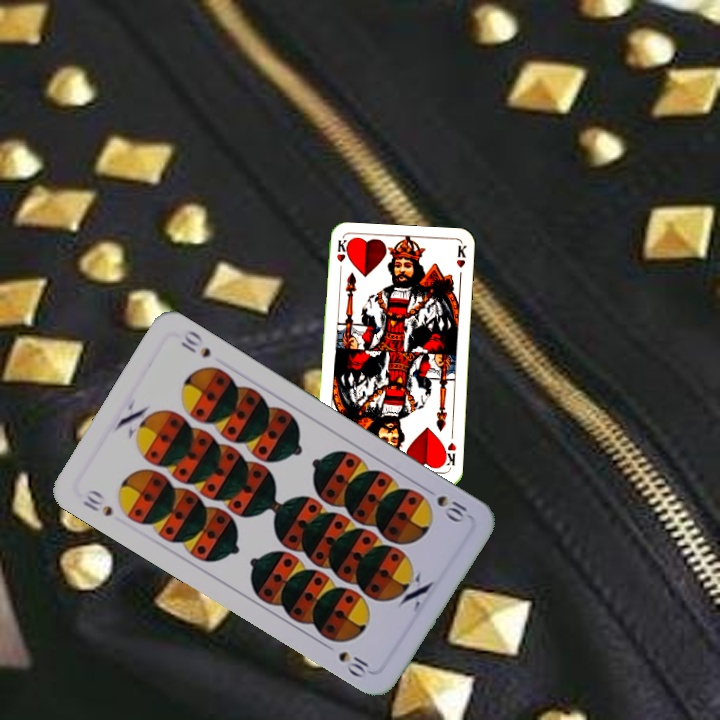HK: (439, 439, 459, 472), (333, 236, 349, 277)
S10: (419, 482, 471, 525), (78, 485, 116, 519)
